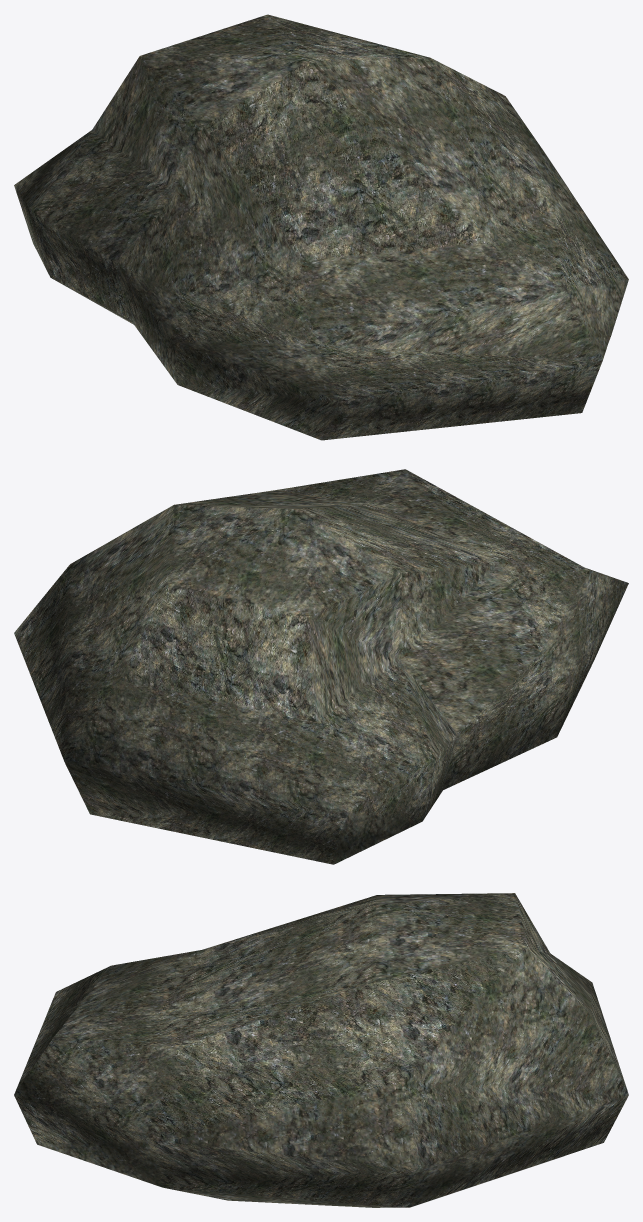
File: mtns_rock_grey_a9_l0.fbx
3 views of the same model, one above another, from view 1: azimuth 30°, elevation 25°; view 2: azimuth 150°, elevation 25°; view 3: azimuth 270°, elevation 25° (orthographic). The views are drawn at different scales.
Visible parts, largest first — view 1: mesh_node; view 2: mesh_node; view 3: mesh_node.
Part boxes in pixels (<box>): mesh_node: <box>14,14,628,440</box>; mesh_node: <box>14,469,628,864</box>; mesh_node: <box>14,893,628,1207</box>.
Size of the model in its own units: 1.68 by 0.9647 by 2.18.
1 material, 1 textured.
